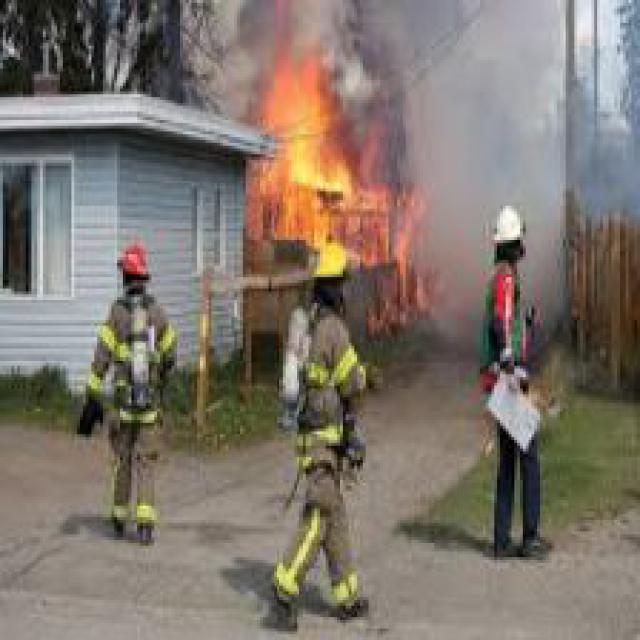fire: (249, 37, 380, 260)
